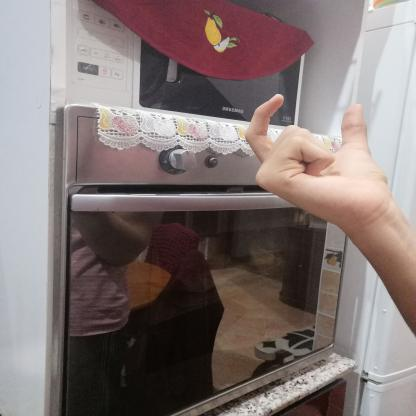NOON: (234, 87, 401, 234)
